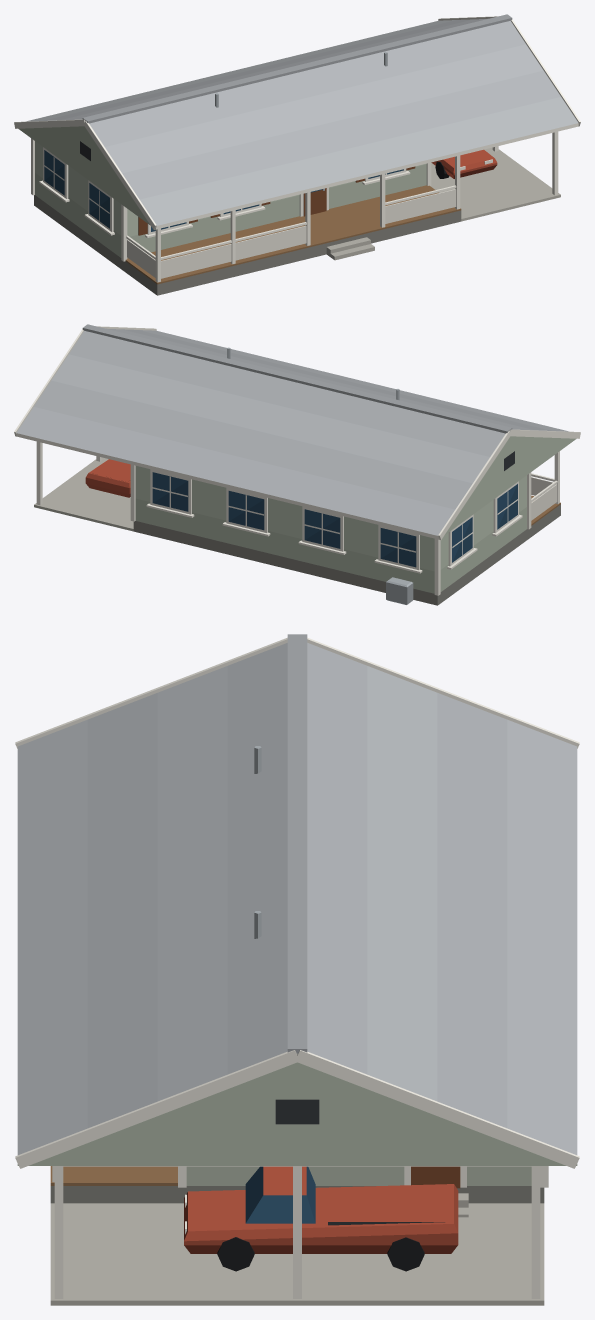
File: house_17x9.glb
3 renders of one model, top to bottom at view 1: azimuth 30°, elevation 25°; view 2: azimuth 150°, elevation 25°; view 3: azimuth 270°, elevation 25°, orthographic. The views are drawn at different scales.
Parts seen in each view (by area): view 1: house; view 2: house; view 3: house.
Boxes of the visible parts, box(x1,y1,x2,y2) form: house: box(14, 14, 580, 295); house: box(14, 324, 580, 605); house: box(15, 634, 579, 1305).
Size of the model in its own units: 17.93 by 5.49 by 10.29.
